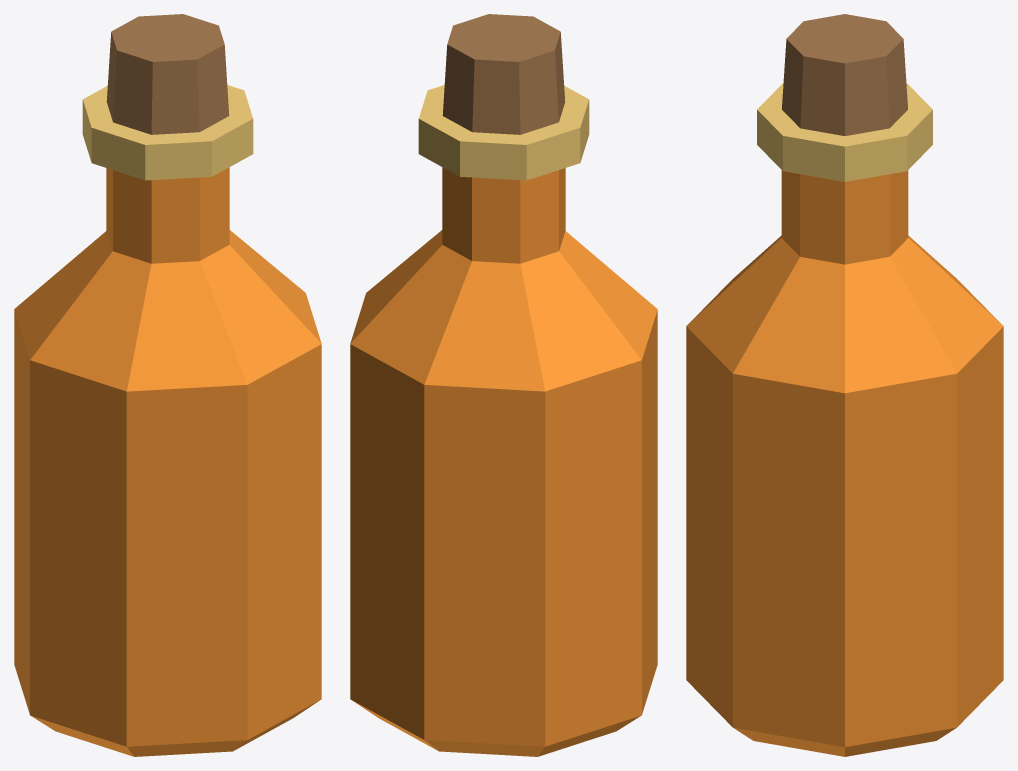
The model's file is potion_strength.glb.
The picture shows the model from 3 angles, left to right: view 1: azimuth 30°, elevation 25°; view 2: azimuth 150°, elevation 25°; view 3: azimuth 270°, elevation 25°; orthographic projection.
Visible parts, largest first — view 1: potion_strength; view 2: potion_strength; view 3: potion_strength.
Part boxes in pixels (x1,y1,x2,y2): potion_strength: [14, 14, 321, 756]; potion_strength: [350, 14, 657, 756]; potion_strength: [686, 14, 1003, 756].
Bounding box in the file's own units: 0.13 × 0.3 × 0.13.
